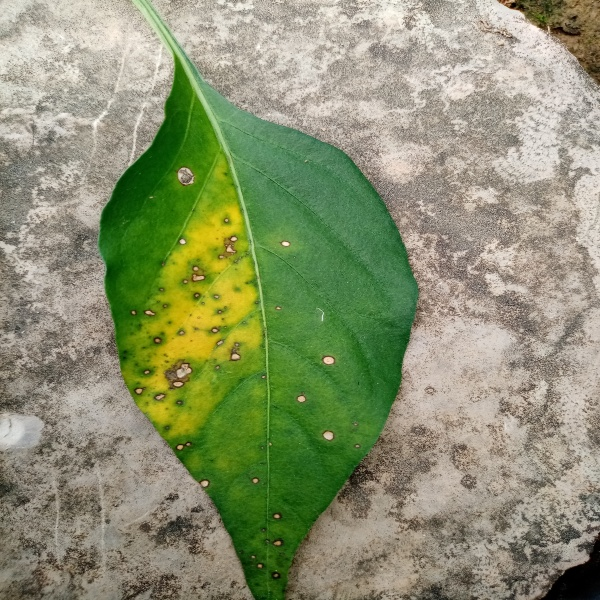Anthrax: (124, 211, 266, 412), (292, 353, 362, 445), (250, 474, 288, 583), (174, 436, 218, 490), (167, 158, 212, 200)
